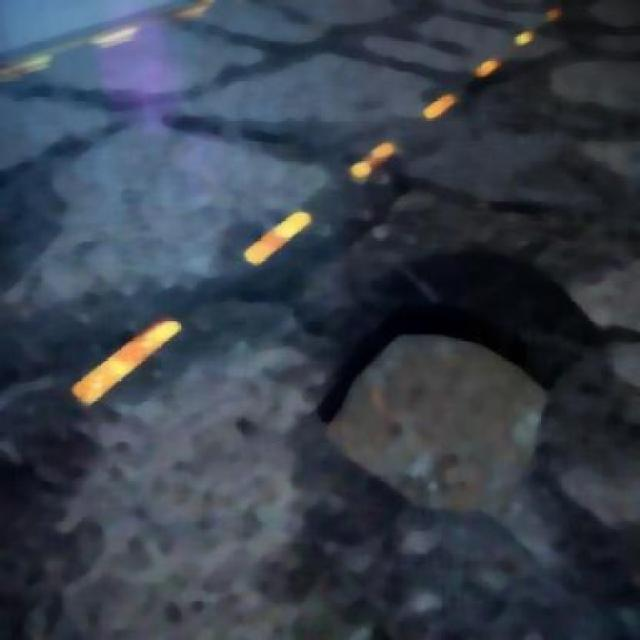pothole: (321, 319, 530, 516)
